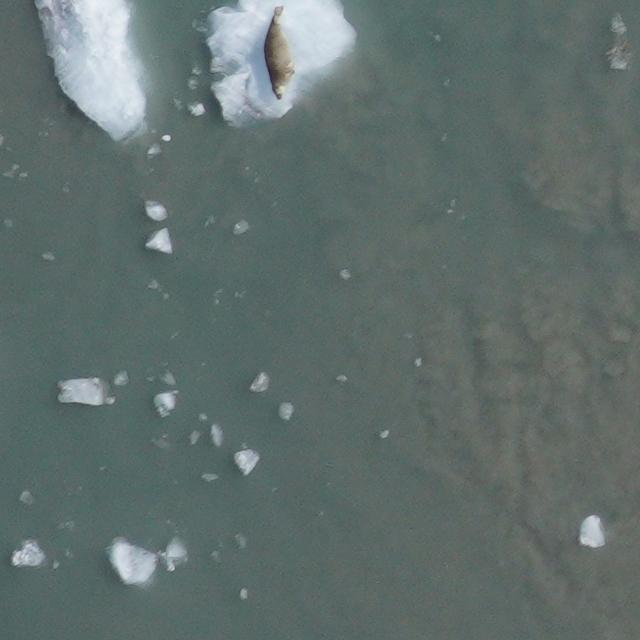seal: (253, 3, 304, 105)
